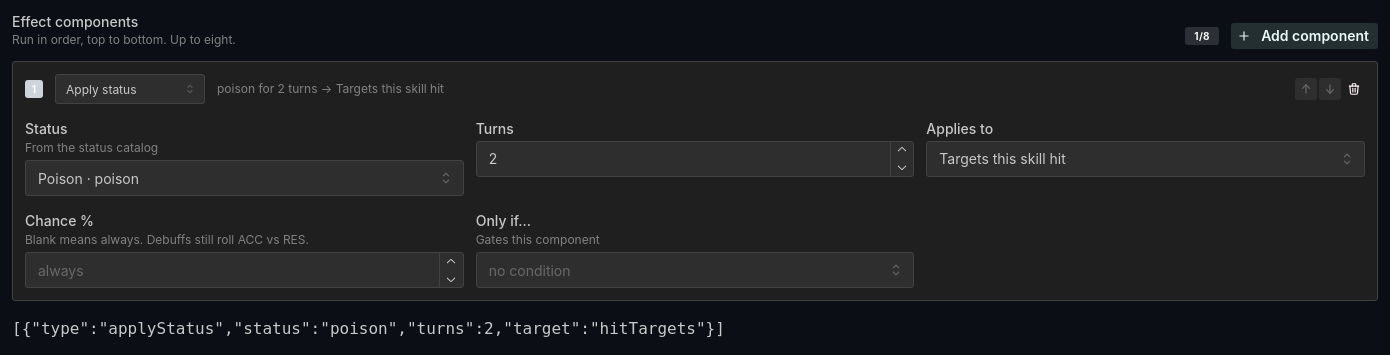
EffectComponentEditor › offers only real status keys, never free text
Step 1. Click the field labelled "Status" → (244, 178), box x1=25 y1=160 x2=464 y2=196
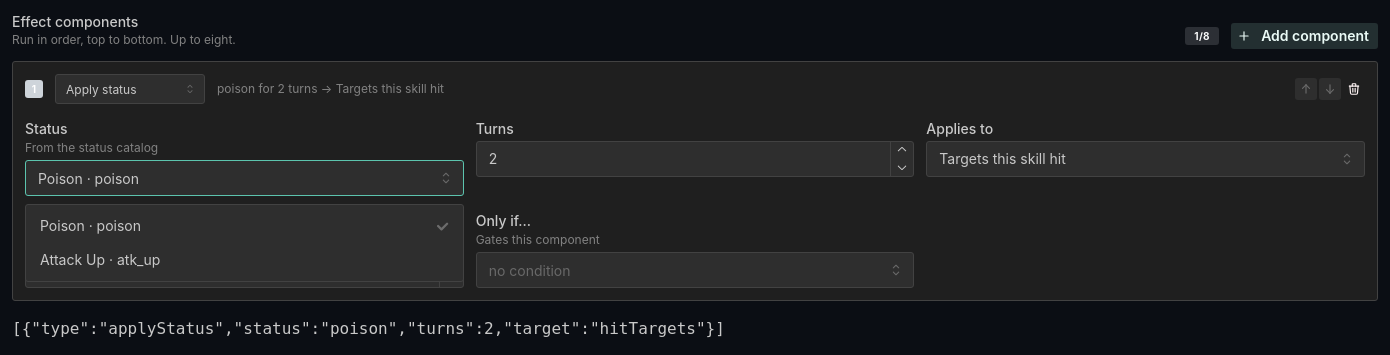
expect the options read "Poison · poison", "Attack Up · atk_up", in this order: met, box x1=40 y1=217 x2=449 y2=234; x1=40 y1=251 x2=160 y2=268
